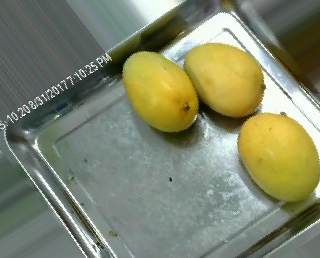Mango: (235, 110, 320, 202), (119, 46, 202, 137), (182, 38, 266, 120)
